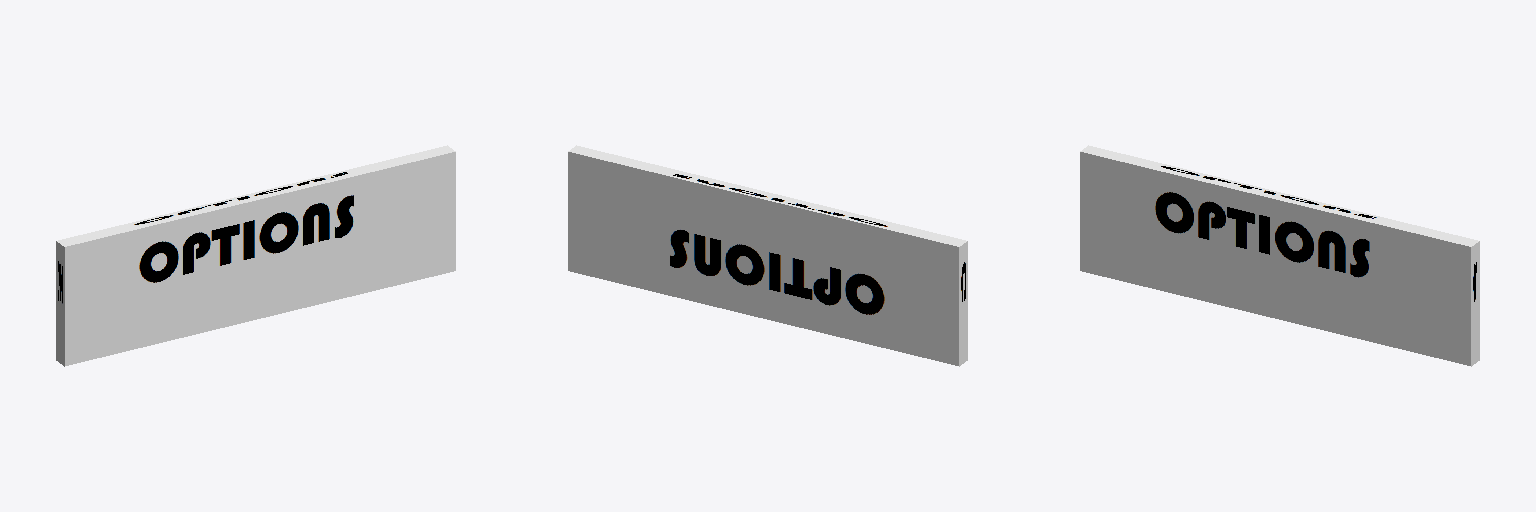
3 renders of one model, left to right at view 1: azimuth 30°, elevation 25°; view 2: azimuth 150°, elevation 25°; view 3: azimuth 330°, elevation 25°, orthographic.
Parts seen in each view (by area): view 1: pCube1; view 2: pCube1; view 3: pCube1.
Boxes of the visible parts, x1,y1,x2,y2 form: pCube1: [56, 145, 455, 366]; pCube1: [568, 145, 967, 366]; pCube1: [1080, 145, 1479, 366].
Size of the model in its own units: 1.04 by 0.3027 by 0.0389.
1 materials, 1 textured.